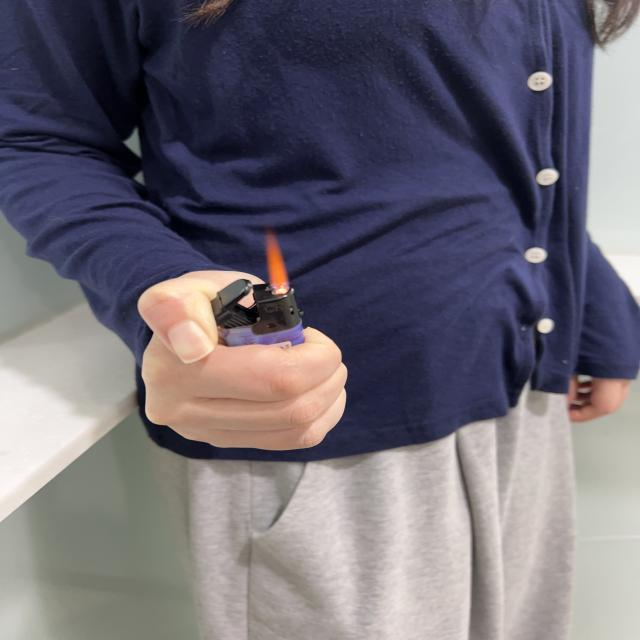fire: (262, 233, 294, 297)
